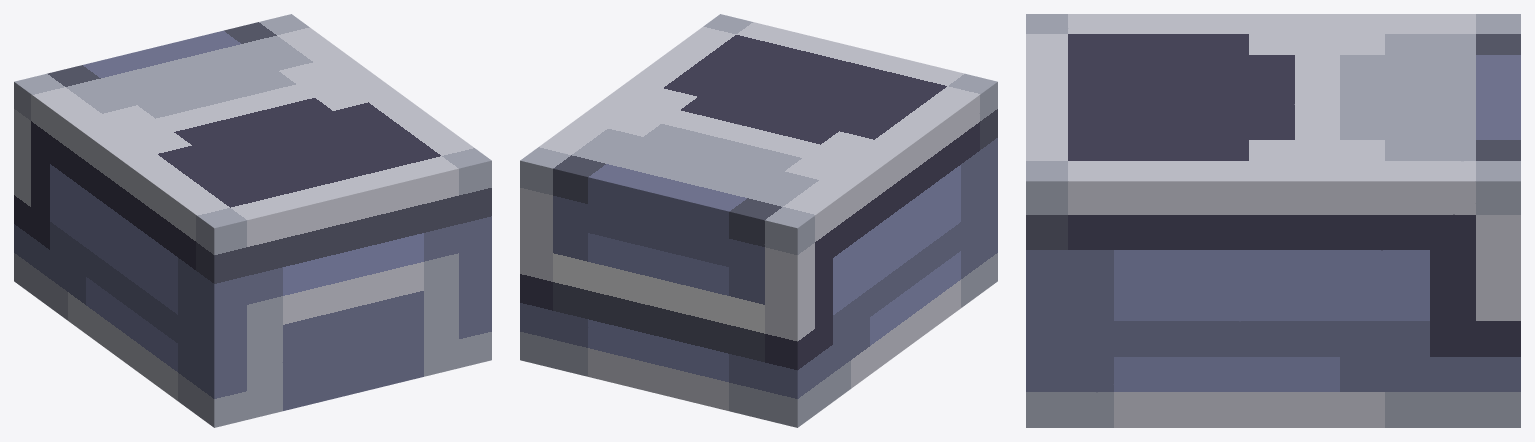
File: shinyarmor-foot-right.gltf
3 renders of one model, left to right at view 1: azimuth 30°, elevation 25°; view 2: azimuth 150°, elevation 25°; view 3: azimuth 270°, elevation 25°, orthographic. The views are drawn at different scales.
Visible parts, largest first — view 1: shinyarmor; view 2: shinyarmor; view 3: shinyarmor.
Boxes of the visible parts, bbox=[...] form: shinyarmor: bbox=[14, 14, 491, 427]; shinyarmor: bbox=[520, 14, 997, 427]; shinyarmor: bbox=[1026, 14, 1520, 427].
Bounding box in the file's own units: 0.25 × 0.1875 × 0.3125.
2 materials, 2 textured.
